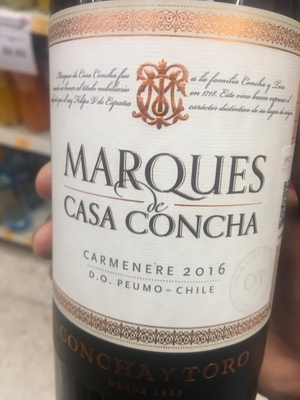marques de casa concha carmenere: (50, 8, 300, 393)
